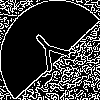Y: (25, 25, 78, 82)
